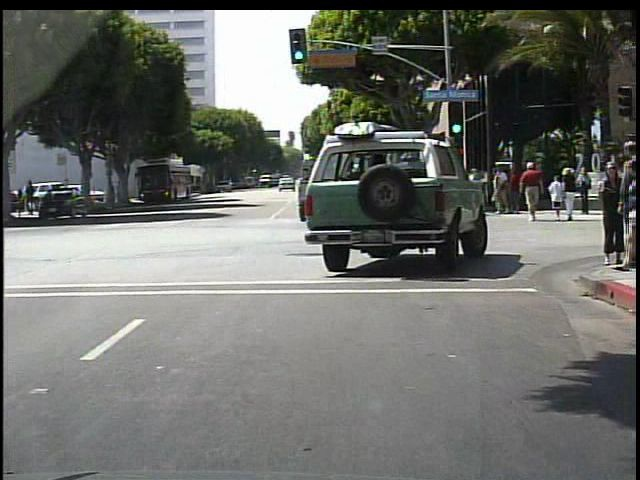person: (595, 163, 627, 267), (617, 140, 639, 265), (520, 162, 543, 224), (547, 174, 568, 225), (564, 166, 580, 223), (464, 166, 480, 216), (576, 166, 591, 218), (508, 166, 523, 216), (490, 168, 503, 214), (496, 165, 508, 210), (454, 167, 465, 215), (116, 179, 125, 207), (108, 179, 117, 203)
